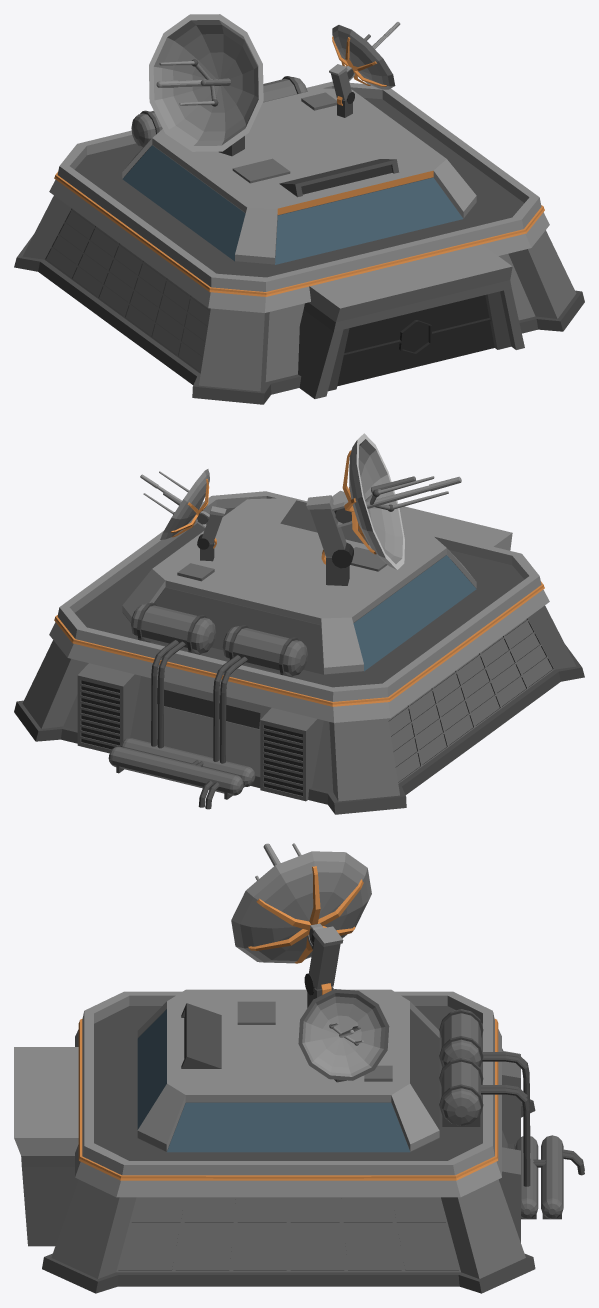
3 renders of one model, top to bottom at view 1: azimuth 30°, elevation 25°; view 2: azimuth 150°, elevation 25°; view 3: azimuth 270°, elevation 25°, orthographic. The views are drawn at different scales.
Parts seen in each view (by area): view 1: Cube.042, Cube.044, Cube.054, Cube.043, Cube.045, Cylinder.041, DOOR_1, Plane.030, Cylinder.053, Cube.079, Cube.063, Cylinder.085 (+2 smaller); view 2: Cube.044, Cube.042, Cube.054, Cube.045, Cube.076, Cube.074, Cylinder.041, Cylinder.084, Cylinder.085, Cylinder.090, Cube.043, Cylinder.086 (+12 smaller); view 3: Cube.044, Cube.042, Cube.054, Cube.045, Cube.043, Cylinder.041, Cylinder.053, Cylinder.084, Plane.030, Cylinder.085, Cylinder.090, Cube.049 (+6 smaller).
Boxes of the visible parts, x1=… form: Cube.042: x1=49, y1=81, x2=549, y2=312; Cube.044: x1=14, y1=195, x2=584, y2=404; Cube.054: x1=122, y1=88, x2=476, y2=264; Cube.043: x1=298, y1=244, x2=524, y2=398; Cube.045: x1=122, y1=145, x2=476, y2=264; Cylinder.041: x1=149, y1=14, x2=263, y2=151; DOOR_1: x1=337, y1=295, x2=494, y2=386; Plane.030: x1=279, y1=159, x2=399, y2=197; Cylinder.053: x1=332, y1=25, x2=395, y2=89; Cube.079: x1=45, y1=208, x2=210, y2=372; Cube.063: x1=232, y1=158, x2=290, y2=183; Cylinder.085: x1=131, y1=110, x2=162, y2=148; Cube.044: x1=14, y1=605, x2=584, y2=814; Cube.042: x1=49, y1=491, x2=549, y2=722; Cube.054: x1=122, y1=498, x2=476, y2=674; Cube.045: x1=122, y1=555, x2=476, y2=674; Cube.076: x1=260, y1=708, x2=323, y2=801; Cube.074: x1=77, y1=663, x2=140, y2=753; Cylinder.041: x1=349, y1=433, x2=404, y2=569; Cylinder.084: x1=131, y1=602, x2=215, y2=654; Cylinder.085: x1=222, y1=625, x2=307, y2=677; Cylinder.090: x1=108, y1=746, x2=243, y2=799; Cube.043: x1=332, y1=490, x2=512, y2=550; Cylinder.086: x1=121, y1=738, x2=255, y2=787; Cube.044: x1=42, y1=1048, x2=535, y2=1293; Cube.042: x1=75, y1=991, x2=501, y2=1197; Cube.054: x1=137, y1=989, x2=439, y2=1151; Cube.045: x1=137, y1=1009, x2=439, y2=1152; Cube.043: x1=14, y1=1047, x2=78, y2=1246; Cylinder.041: x1=231, y1=851, x2=371, y2=963; Cylinder.053: x1=298, y1=989, x2=389, y2=1080; Cylinder.084: x1=439, y1=1057, x2=483, y2=1126; Plane.030: x1=181, y1=1003, x2=221, y2=1068; Cylinder.085: x1=439, y1=1009, x2=483, y2=1067; Cylinder.090: x1=541, y1=1135, x2=563, y2=1219; Cube.049: x1=308, y1=926, x2=343, y2=989.
Size of the model in its own units: 444 by 306 by 517.
